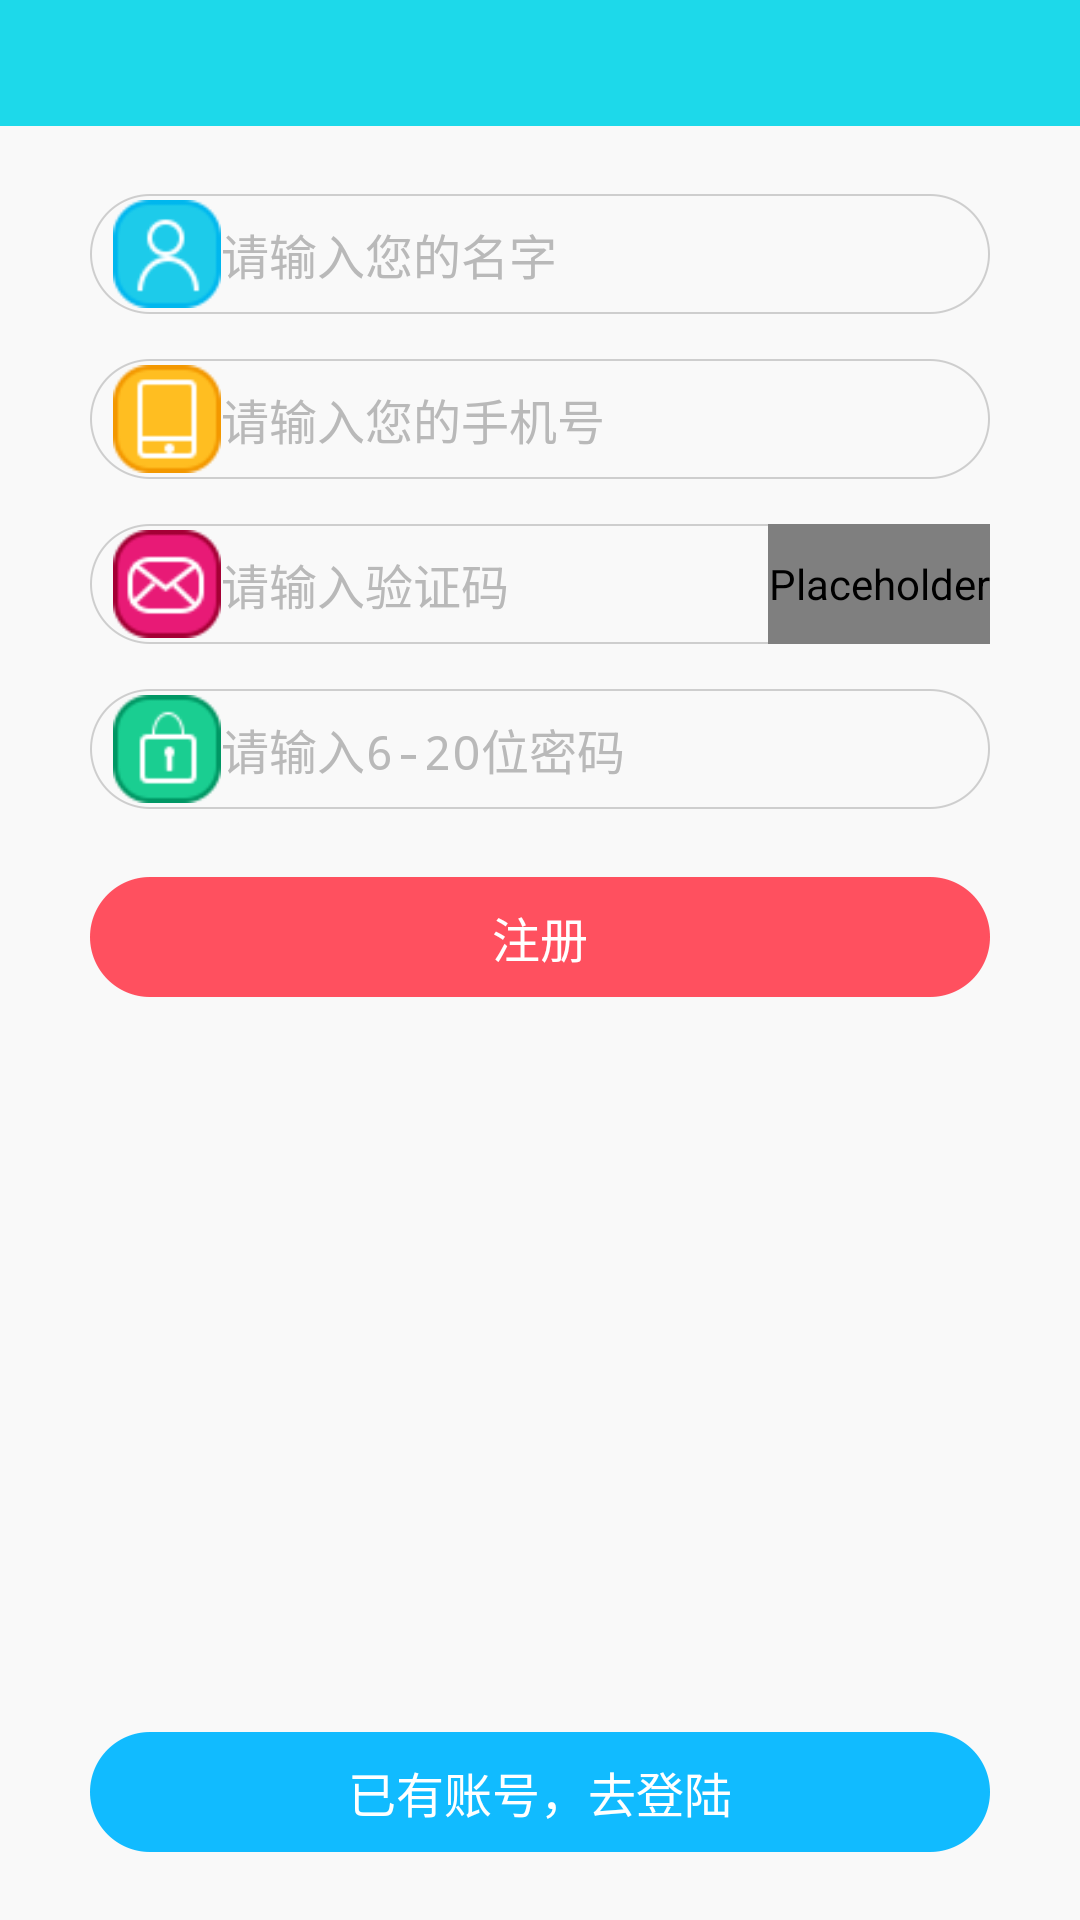

Screen size 1080w x 1920h. Icon name, then its center in pixels as (x,y):
password: (167,749)
phone: (167,419)
vcode: (167,584)
